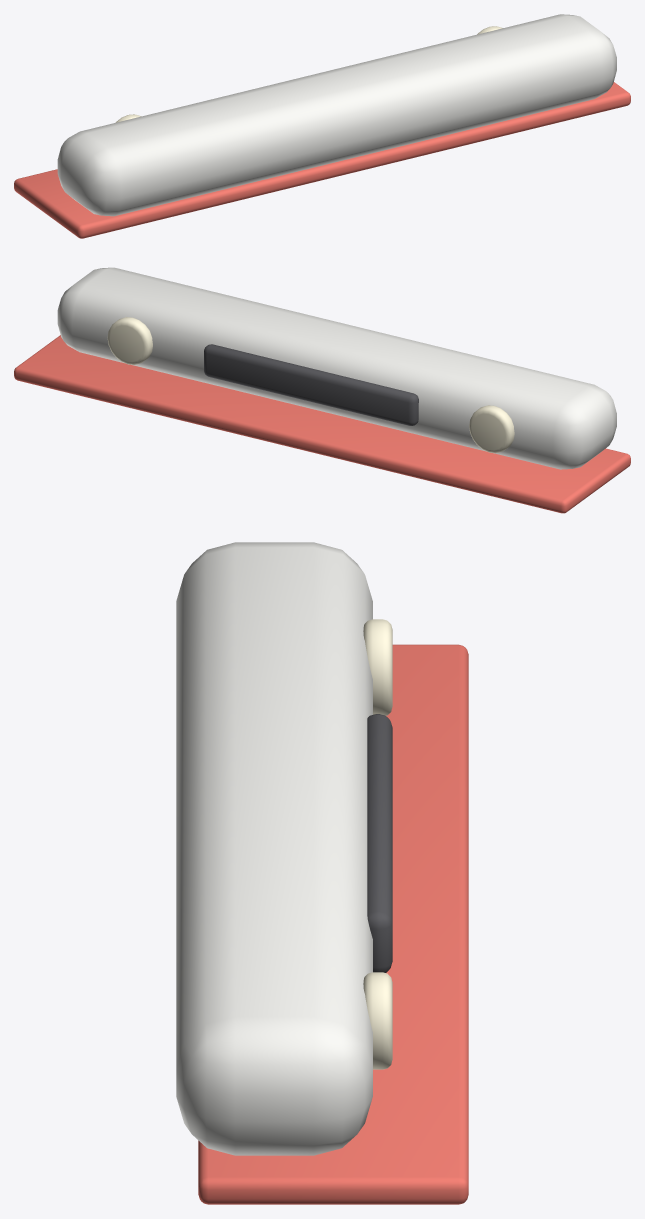
Rendered from Zderzak_Sportowy_Przod.fbx.
The picture shows the model from 3 angles, top to bottom: view 1: azimuth 30°, elevation 25°; view 2: azimuth 150°, elevation 25°; view 3: azimuth 270°, elevation 25°; orthographic projection. The views are drawn at different scales.
Parts seen in each view (by area): view 1: Zderzak_Sportowy_Przod; view 2: Zderzak_Sportowy_Przod; view 3: Zderzak_Sportowy_Przod.
Boxes of the visible parts, <box> form: Zderzak_Sportowy_Przod: <box>14,14,630,238</box>; Zderzak_Sportowy_Przod: <box>14,267,630,513</box>; Zderzak_Sportowy_Przod: <box>176,542,468,1204</box>.
Bounding box in the file's own units: 2.6 × 0.35 × 0.595.
